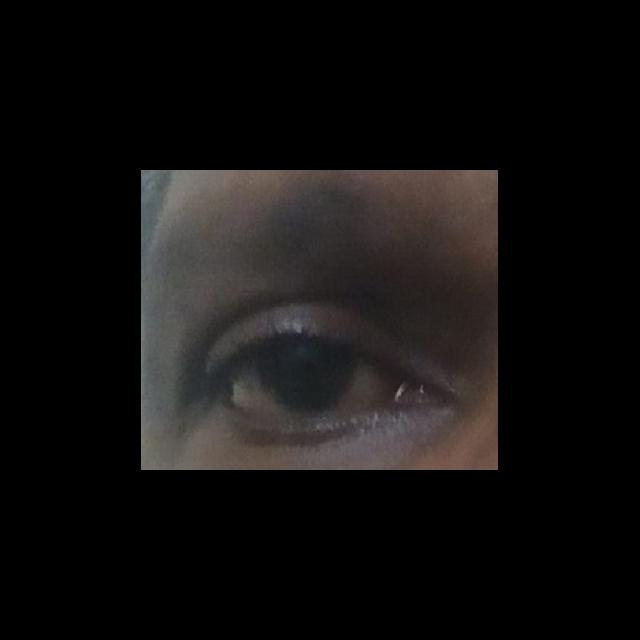eye: (225, 339, 391, 417)
iris: (256, 343, 358, 409)
